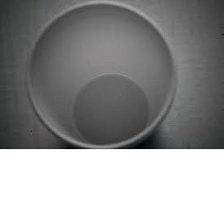paper_cup: (20, 0, 183, 148)
